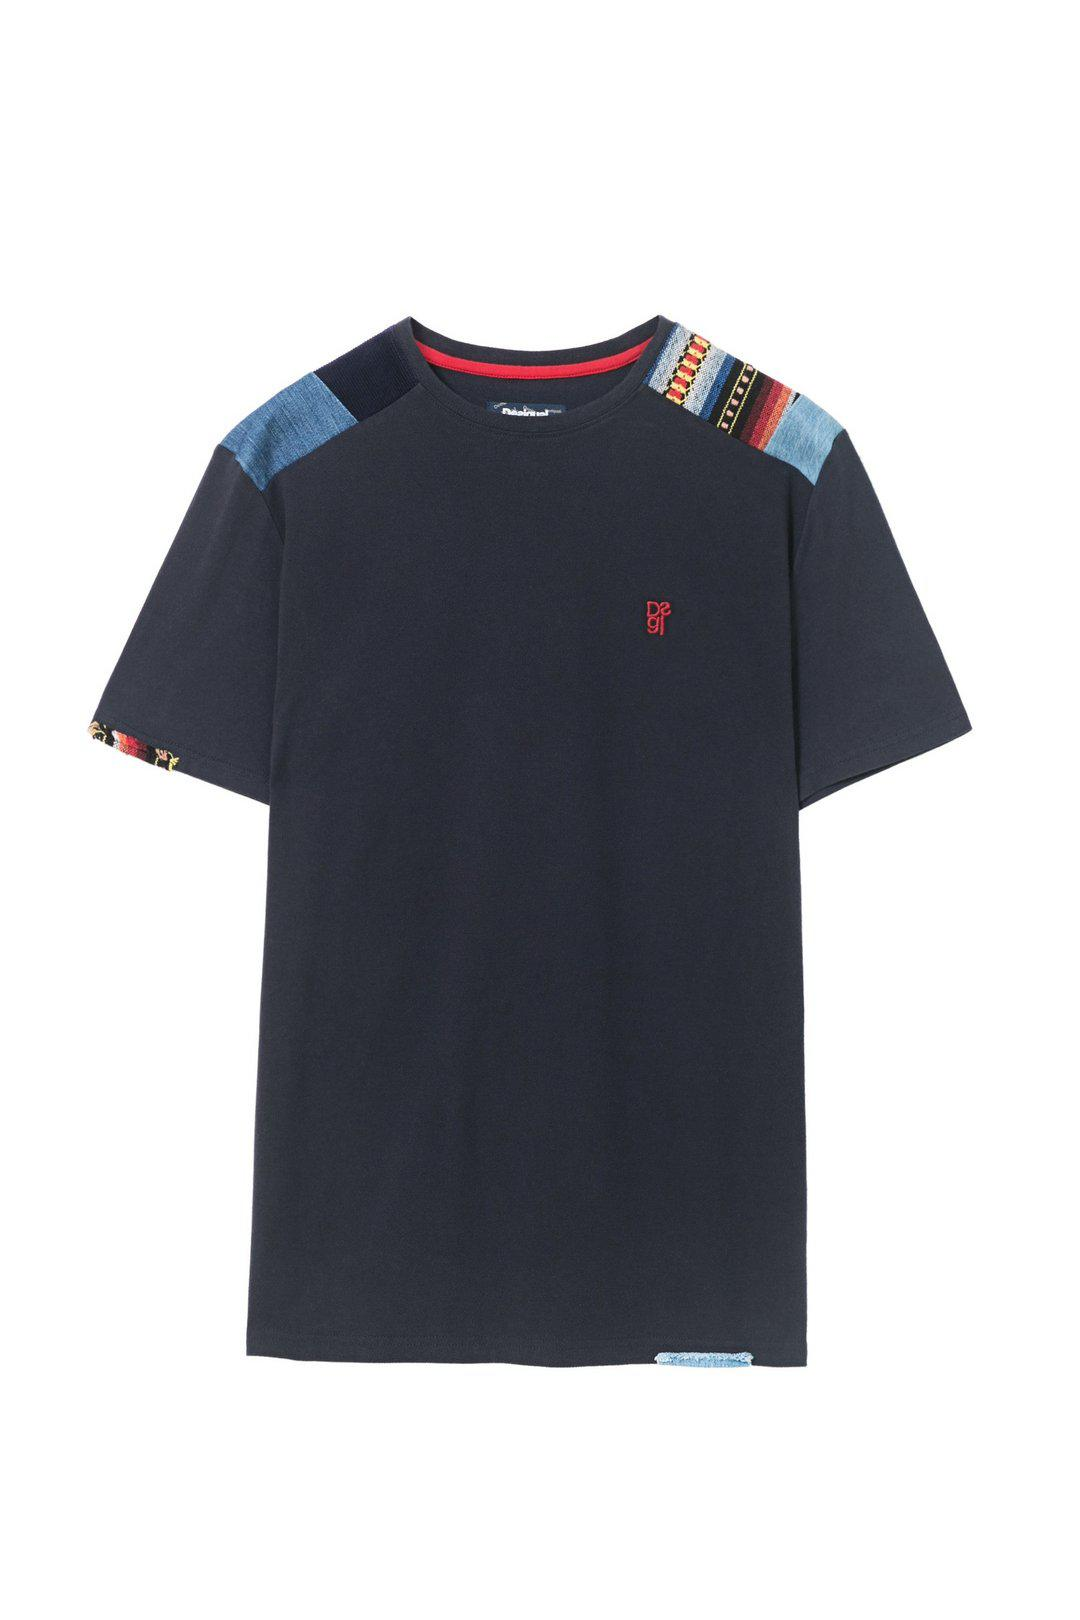teeshirt: (48, 290, 1072, 1545)
